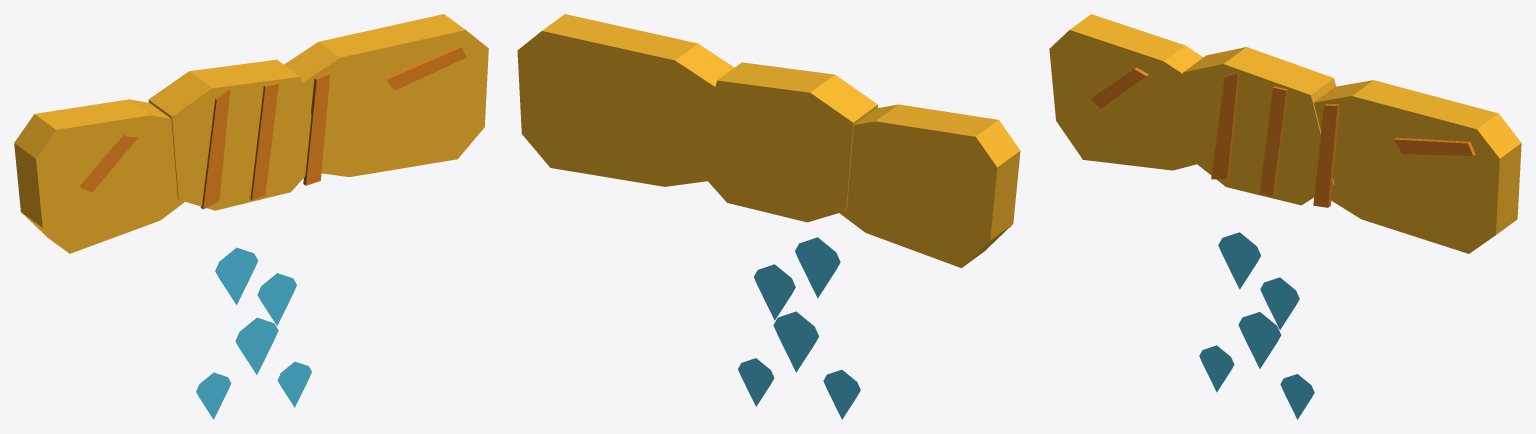
The model's file is trapoMojado.fbx.
3 renders of one model, left to right at view 1: azimuth 30°, elevation 25°; view 2: azimuth 150°, elevation 25°; view 3: azimuth 330°, elevation 25°, orthographic. The views are drawn at different scales.
Parts seen in each view (by area): view 1: Trapo_Mojado; view 2: Trapo_Mojado; view 3: Trapo_Mojado.
Part boxes in pixels (<box>): Trapo_Mojado: <box>14,14,488,419</box>; Trapo_Mojado: <box>517,14,1020,419</box>; Trapo_Mojado: <box>1049,14,1521,419</box>.
Bounding box in the file's own units: 335 × 237 × 35.
